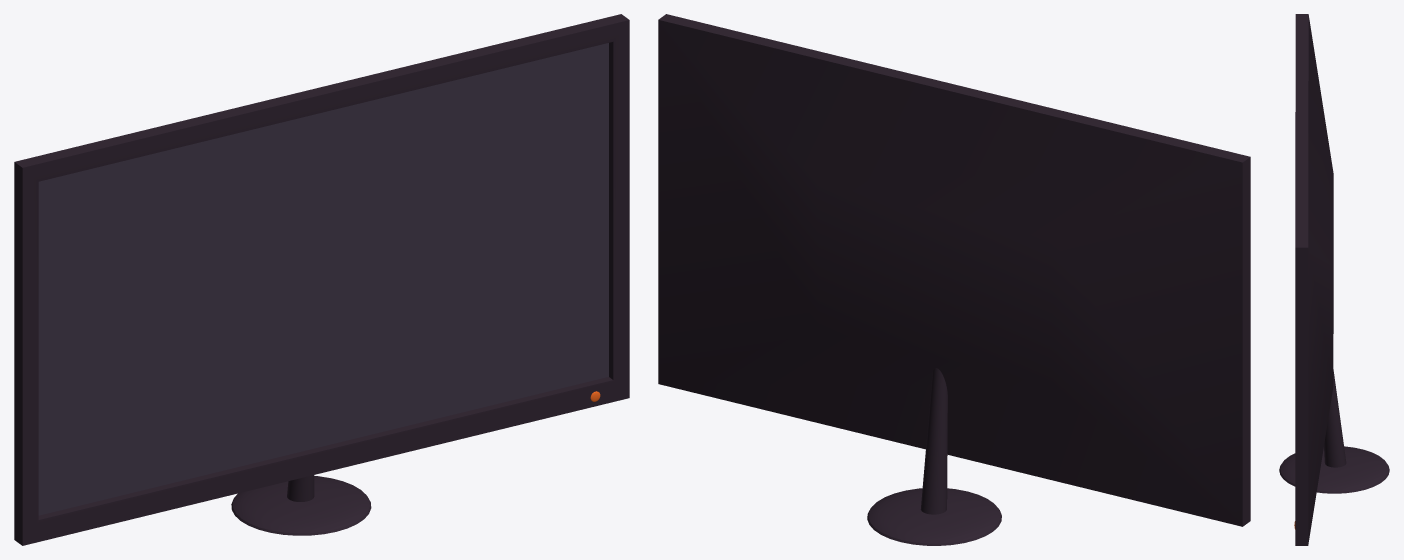
The model's file is MonitorForPC.fbx.
3 views of the same model, side by side, from view 1: azimuth 30°, elevation 25°; view 2: azimuth 150°, elevation 25°; view 3: azimuth 270°, elevation 25° (orthographic). The views are drawn at different scales.
Visible parts, largest first — view 1: Monitor.001; view 2: Monitor.001; view 3: Monitor.001.
Boxes of the visible parts, <box> form: Monitor.001: <box>14,14,629,545</box>; Monitor.001: <box>658,14,1250,545</box>; Monitor.001: <box>1279,14,1389,545</box>.
Bounding box in the file's own units: 113 × 76.64 × 22.62.
